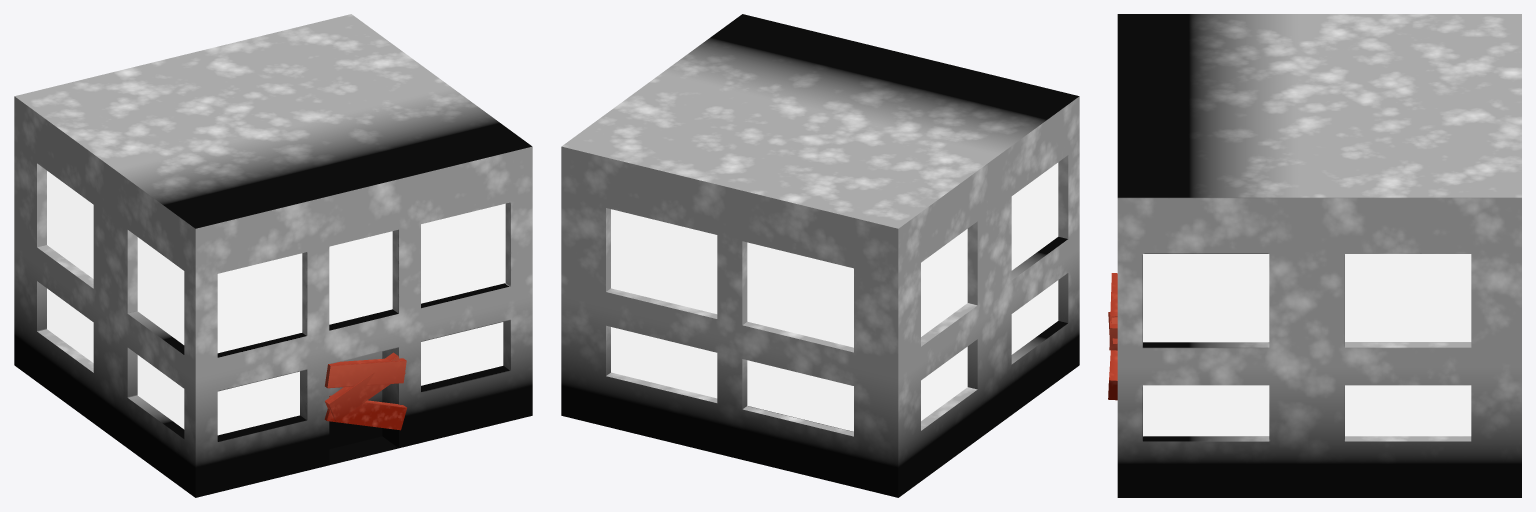
Rendered from building_2.glb.
The picture shows the model from 3 angles, left to right: view 1: azimuth 30°, elevation 25°; view 2: azimuth 150°, elevation 25°; view 3: azimuth 270°, elevation 25°; orthographic projection. The views are drawn at different scales.
Parts seen in each view (by area): view 1: Cube, Cube.001; view 2: Cube; view 3: Cube, Cube.001.
Boxes of the visible parts, x1=… form: Cube: x1=14, y1=14, x2=532, y2=497; Cube.001: x1=324, y1=352, x2=406, y2=430; Cube: x1=561, y1=14, x2=1079, y2=497; Cube: x1=1117, y1=14, x2=1521, y2=497; Cube.001: x1=1108, y1=273, x2=1117, y2=400.
Size of the model in its own units: 9.87 by 7.53 by 9.4.
Materials: 3 (2 with a texture image).
